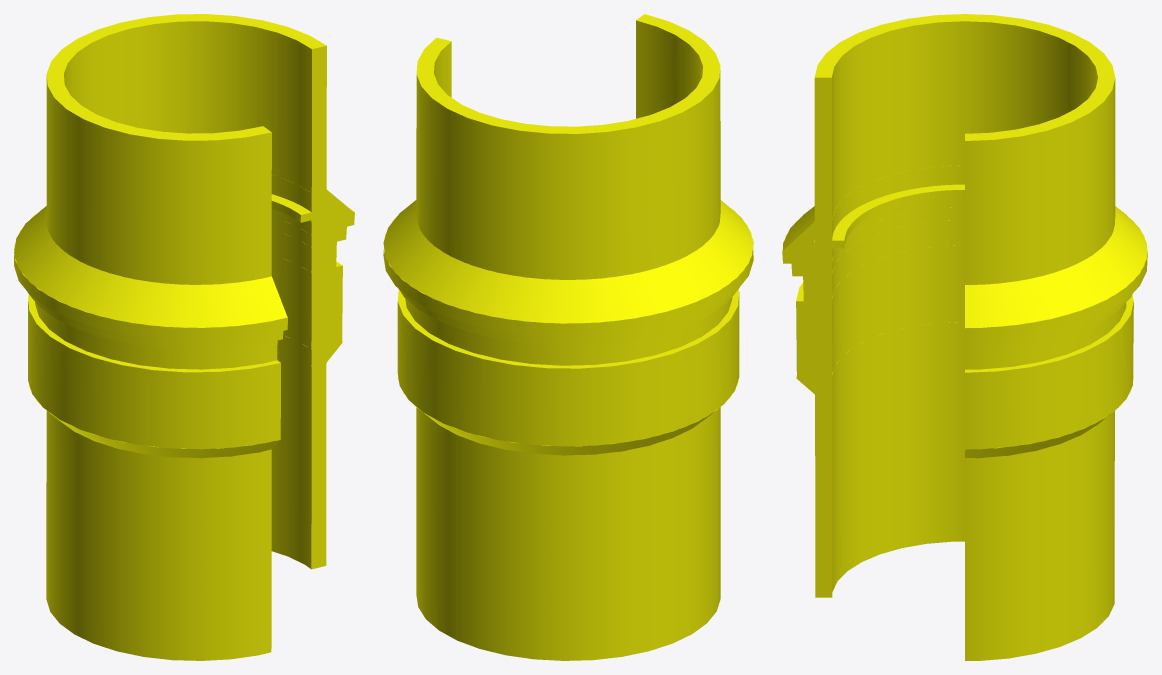
Rendered from Chemise jaune.glb.
3 renders of one model, left to right at view 1: azimuth 30°, elevation 25°; view 2: azimuth 150°, elevation 25°; view 3: azimuth 270°, elevation 25°, orthographic.
Bounding box in the file's own units: 78.86 × 124 × 78.86.
